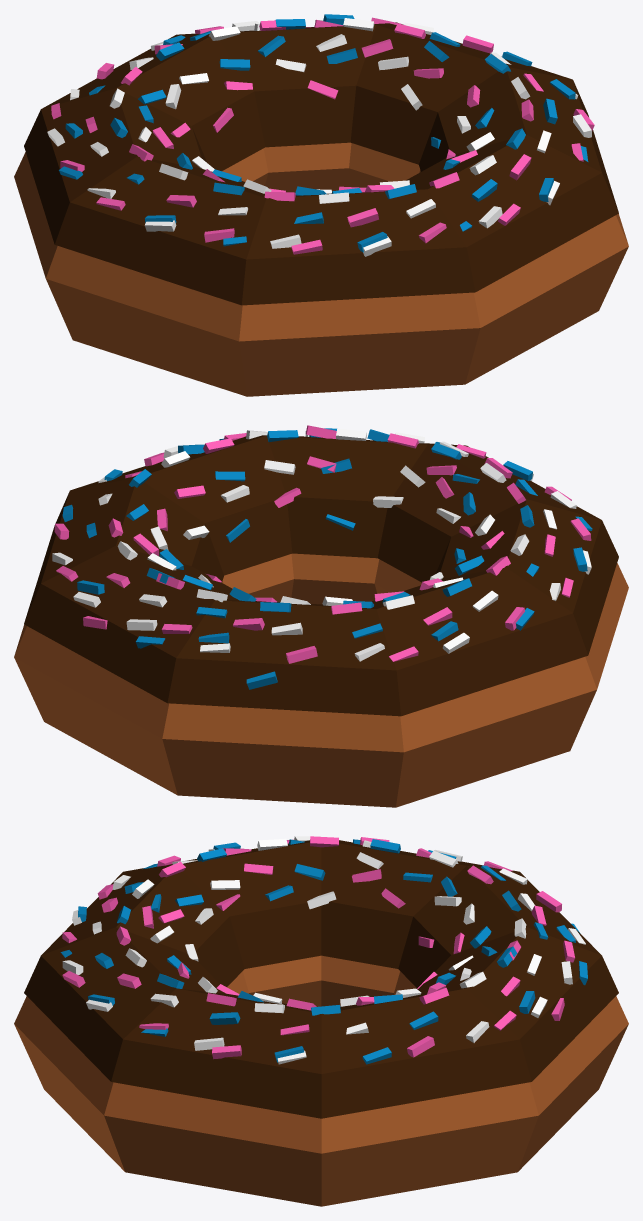
The model's file is 8d8b41eb-9fcc-441e-b32d-b15303847e55.glb.
The picture shows the model from 3 angles, top to bottom: view 1: azimuth 30°, elevation 25°; view 2: azimuth 150°, elevation 25°; view 3: azimuth 270°, elevation 25°; orthographic projection. The views are drawn at different scales.
Visible parts, largest first — view 1: Node; view 2: Node; view 3: Node.
Part boxes in pixels (x1,y1,x2,y2): Node: [14, 14, 628, 396]; Node: [14, 425, 628, 807]; Node: [14, 836, 628, 1206].
Bounding box in the file's own units: 3 × 1.06 × 3.
